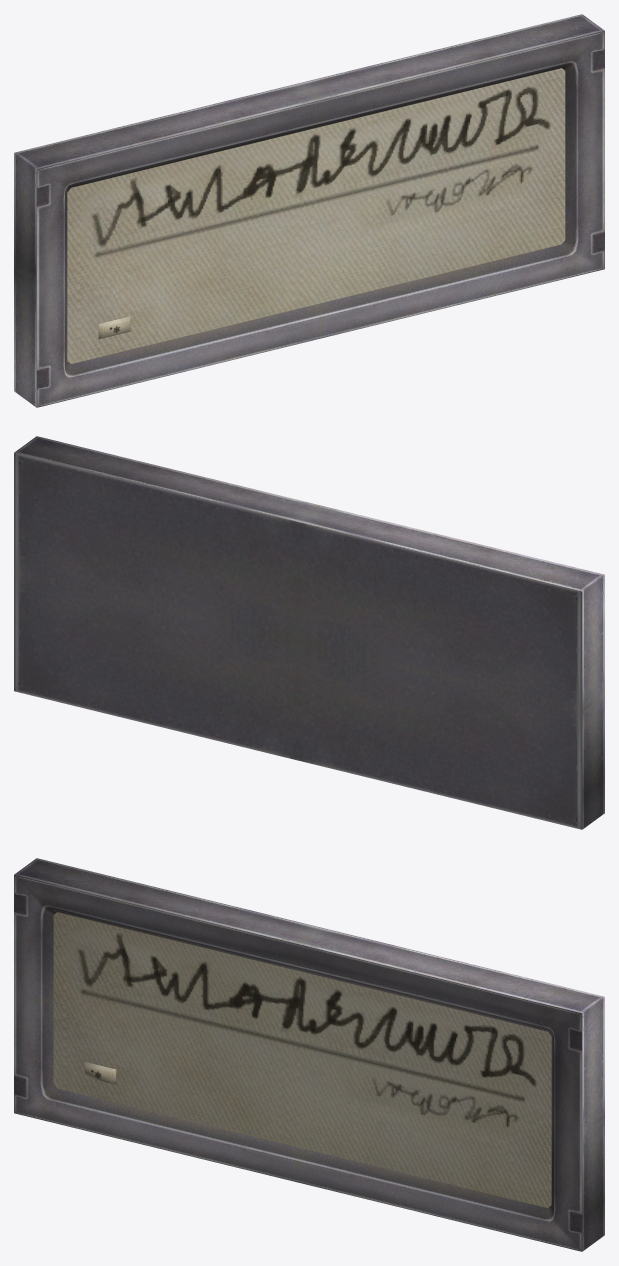
Rendered from sign_scanroom_wau.dae.
3 renders of one model, top to bottom at view 1: azimuth 30°, elevation 25°; view 2: azimuth 150°, elevation 25°; view 3: azimuth 330°, elevation 25°, orthographic.
Visible parts, largest first — view 1: sign_scanroom; view 2: sign_scanroom; view 3: sign_scanroom.
Boxes of the visible parts, x1=… form: sign_scanroom: x1=14, y1=14, x2=604, y2=407; sign_scanroom: x1=14, y1=436, x2=604, y2=829; sign_scanroom: x1=14, y1=858, x2=604, y2=1251.
Bounding box in the file's own units: 40 × 16.04 × 2.78.
